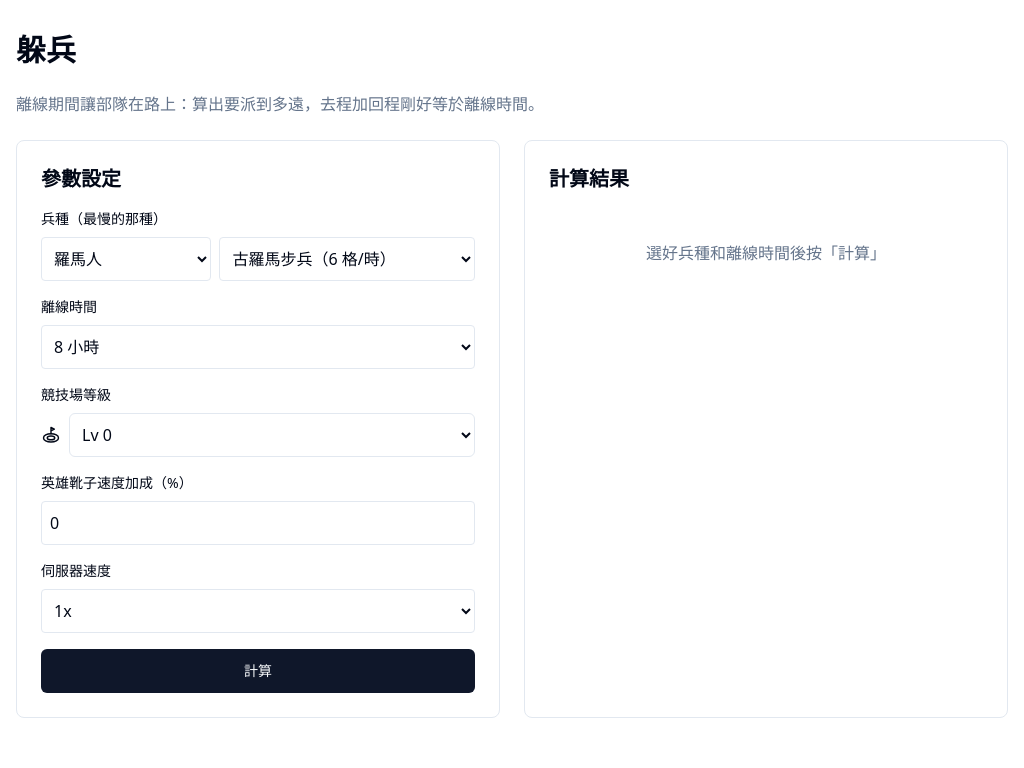
Test: 新欄位不填：送出的值跟以前一樣（新欄位都是 0，後端預設也是 0；PM） › save troops
Click the button "計算".
click(258, 671)  # box [41,649,475,693]
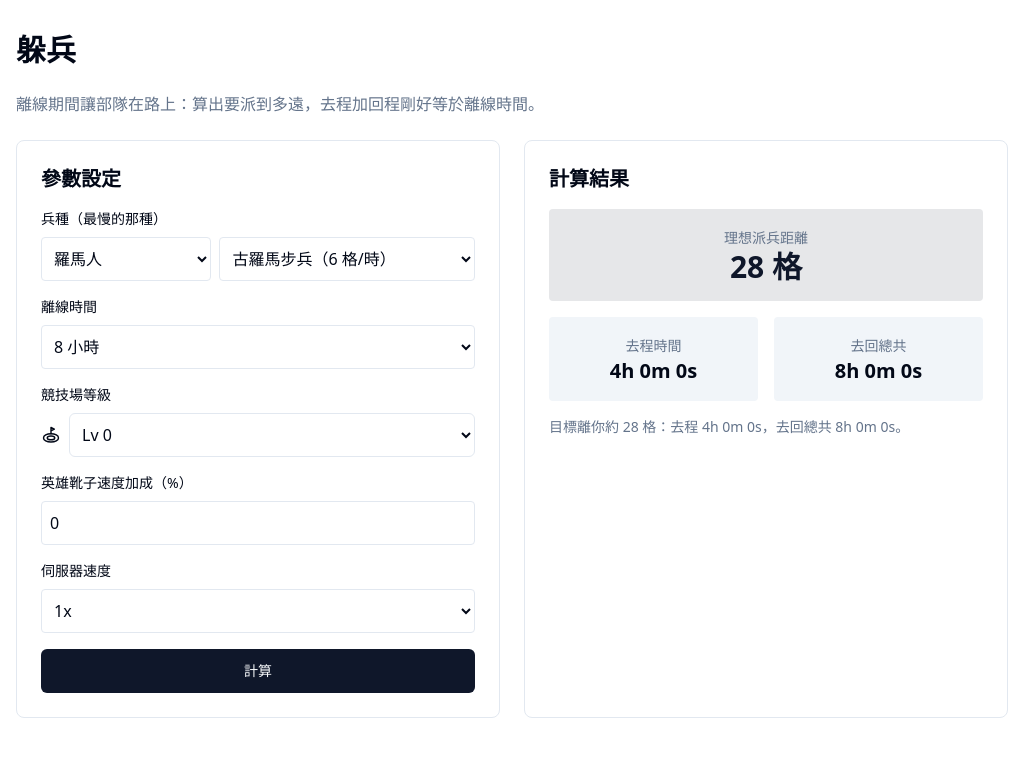
Result: the text "目標離你約 28 格：去程 4h 0m 0s，去回總共 8h 0m 0s。" is shown at [549,417,909,436]
